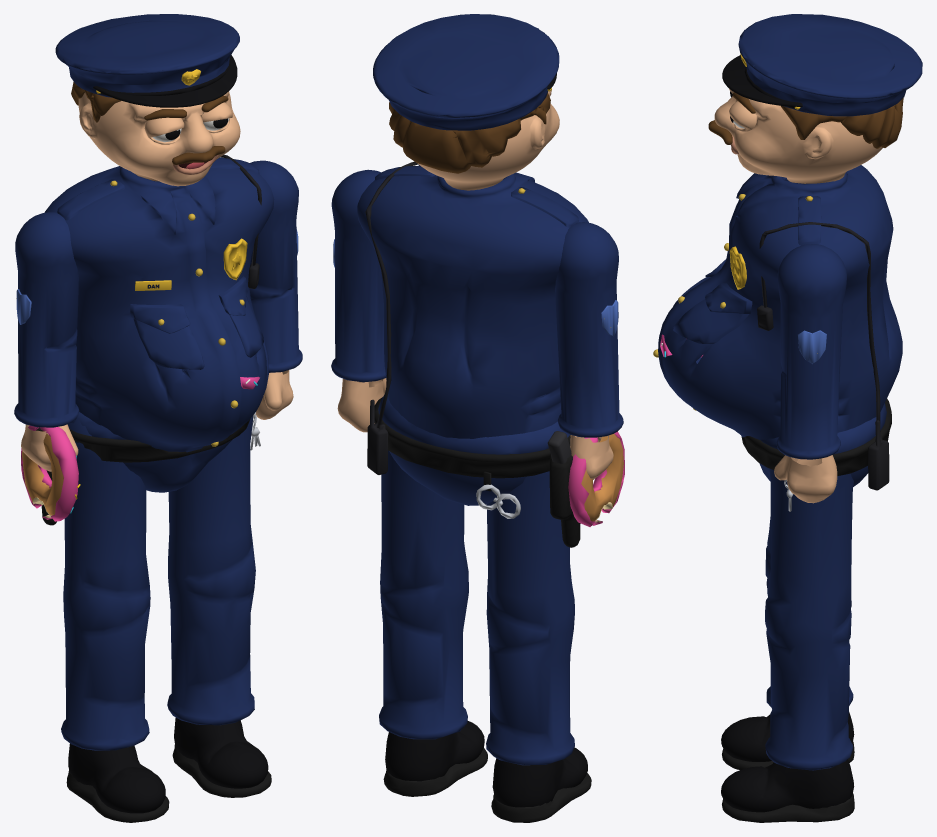
File: cop_dan.glb
The picture shows the model from 3 angles, left to right: view 1: azimuth 30°, elevation 25°; view 2: azimuth 150°, elevation 25°; view 3: azimuth 270°, elevation 25°; orthographic projection.
Parts seen in each view (by area): view 1: Body_Mesh, LegR_Mesh, LegL_Mesh, Head_Mesh, ArmR_Mesh, ArmL_Mesh, Donut; view 2: Body_Mesh, LegR_Mesh, LegL_Mesh, Head_Mesh, ArmR_Mesh, ArmL_Mesh, Donut; view 3: Body_Mesh, LegL_Mesh, Head_Mesh, ArmL_Mesh, LegR_Mesh.
Part boxes in pixels (x1=…): Body_Mesh: x1=36, y1=154, x2=274, y2=525; LegR_Mesh: x1=61, y1=418, x2=169, y2=822; LegL_Mesh: x1=167, y1=371, x2=271, y2=797; Head_Mesh: x1=55, y1=14, x2=240, y2=186; ArmR_Mesh: x1=14, y1=212, x2=79, y2=471; ArmL_Mesh: x1=249, y1=160, x2=302, y2=419; Donut: x1=21, y1=425, x2=80, y2=521; Body_Mesh: x1=357, y1=161, x2=588, y2=547; LegR_Mesh: x1=486, y1=431, x2=591, y2=822; LegL_Mesh: x1=379, y1=450, x2=487, y2=796; Head_Mesh: x1=373, y1=14, x2=559, y2=190; ArmR_Mesh: x1=555, y1=222, x2=623, y2=479; ArmL_Mesh: x1=331, y1=169, x2=386, y2=432; Donut: x1=568, y1=431, x2=624, y2=526; Body_Mesh: x1=653, y1=165, x2=902, y2=511; LegL_Mesh: x1=721, y1=416, x2=854, y2=822; Head_Mesh: x1=708, y1=14, x2=922, y2=183; ArmL_Mesh: x1=774, y1=244, x2=846, y2=503; LegR_Mesh: x1=721, y1=415, x2=854, y2=769.
Size of the model in its own units: 0.7267 by 1.84 by 0.6032.
